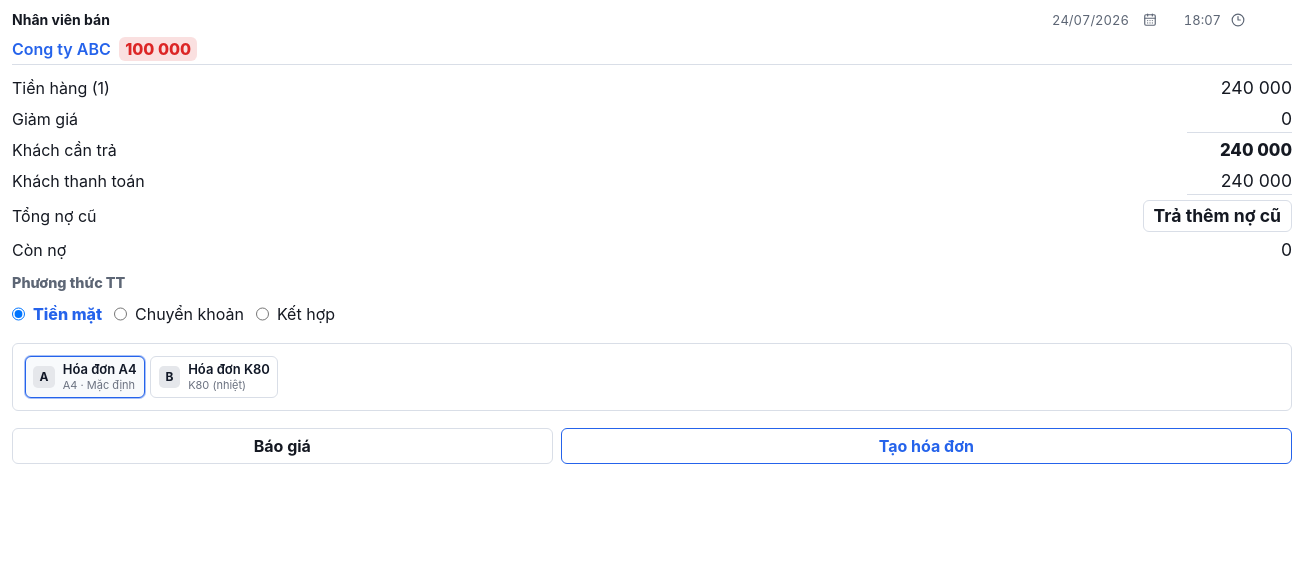
Scenario: uses the pinned bank account in mixed payment mode
The width and height of the screenshot is (1304, 562).
Click the radio button labelled "Kết hợp" at (262, 314), box [256,294,269,334]
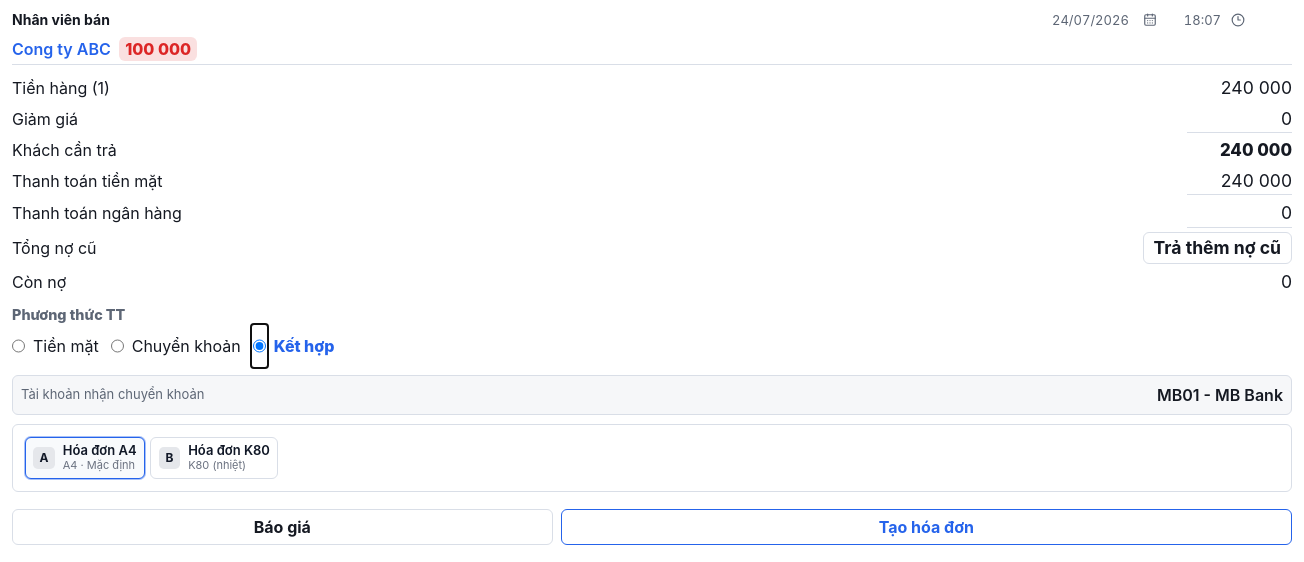
Check: the button "Tài khoản nhận chuyển khoản MB01 - MB Bank" is shown, box [12,375,1292,415]
